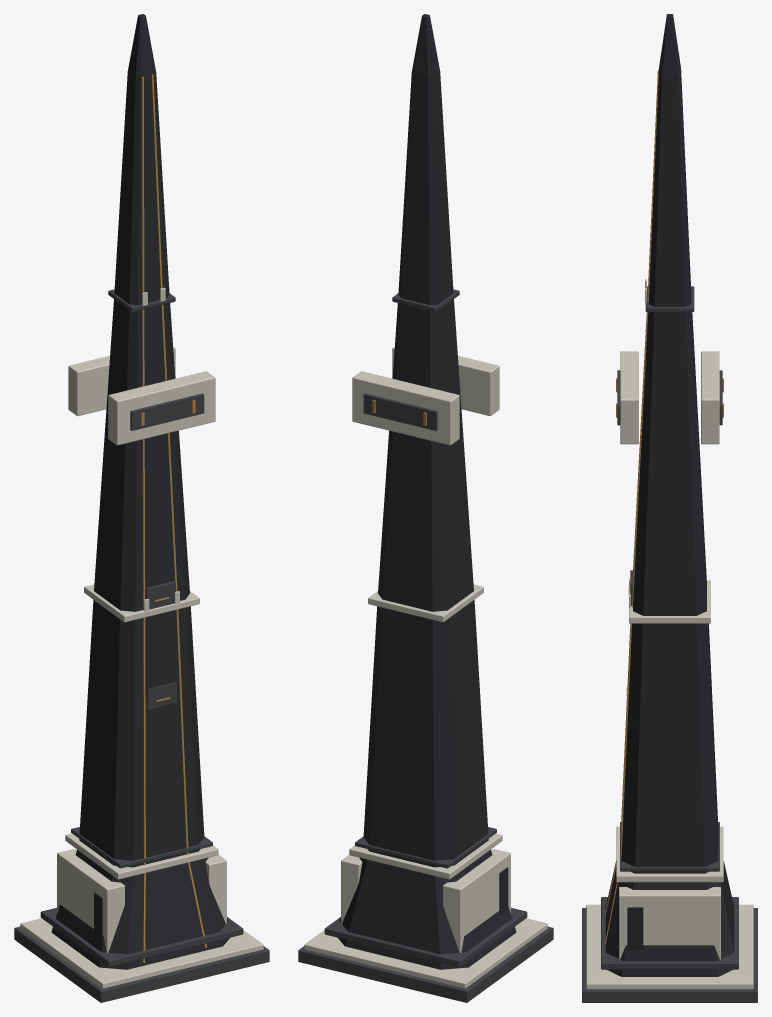
The model's file is SM_Aurelion_KIT_Z12VistaSpireTall.fbx.
3 renders of one model, left to right at view 1: azimuth 30°, elevation 25°; view 2: azimuth 150°, elevation 25°; view 3: azimuth 270°, elevation 25°, orthographic.
Parts seen in each view (by area): view 1: SM_Aurelion_KIT_Z12VistaSpireTall; view 2: SM_Aurelion_KIT_Z12VistaSpireTall; view 3: SM_Aurelion_KIT_Z12VistaSpireTall.
Part boxes in pixels (x1,y1,x2,y2): SM_Aurelion_KIT_Z12VistaSpireTall: [14, 14, 269, 1002]; SM_Aurelion_KIT_Z12VistaSpireTall: [298, 14, 553, 1002]; SM_Aurelion_KIT_Z12VistaSpireTall: [582, 14, 757, 1002].
Bounding box in the file's own units: 445 × 396 × 2350.
